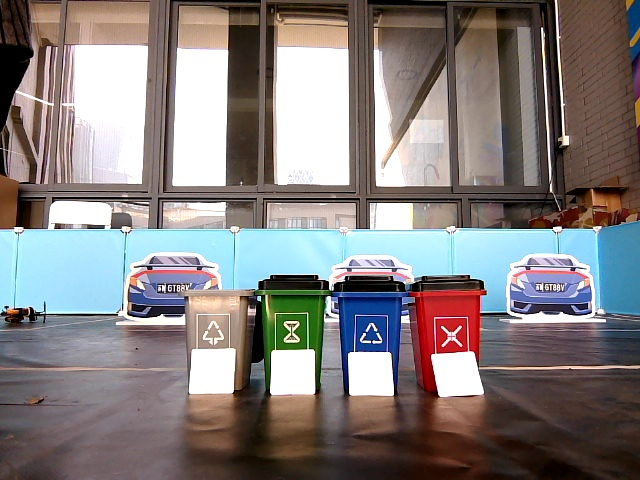blue_close: (336, 274, 399, 348)
green_close: (261, 274, 321, 345)
grey_open: (186, 290, 249, 348)
red_close: (413, 276, 480, 349)
